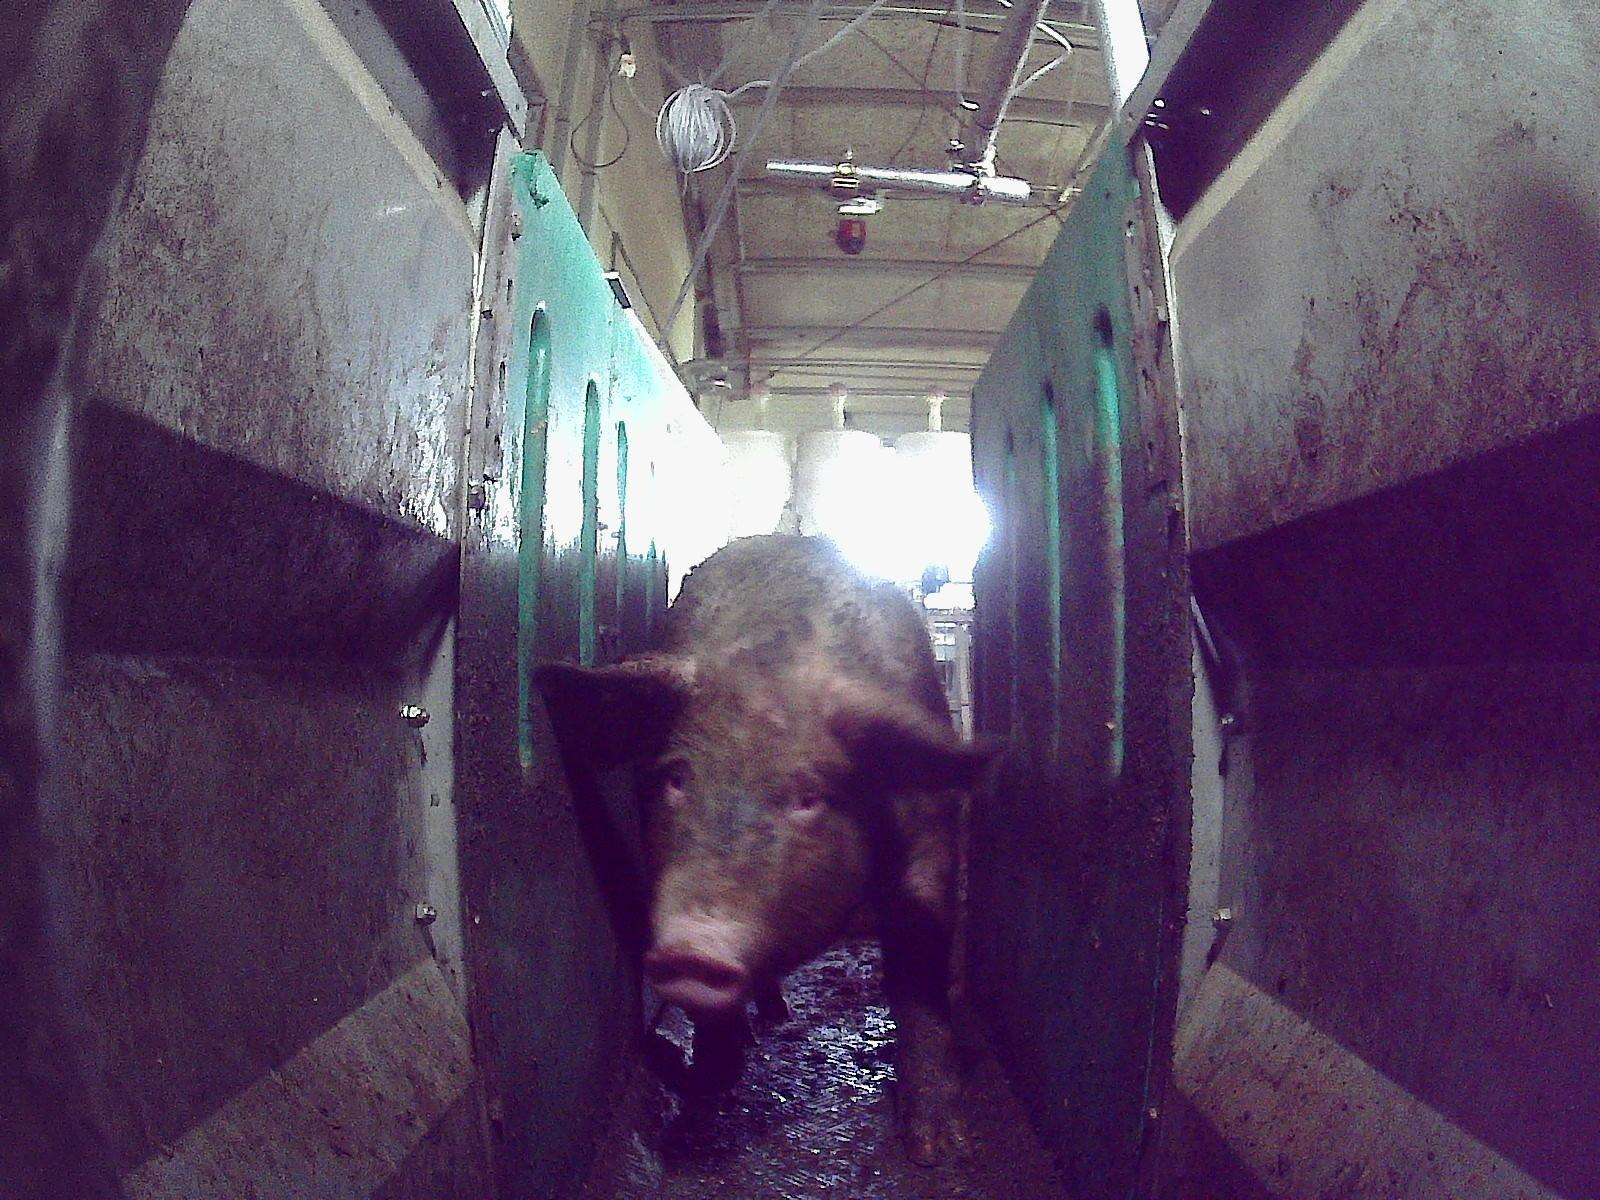Face: (642, 661, 869, 1014)
